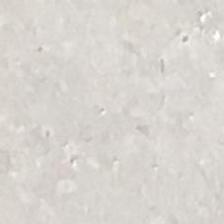Non_Crack: (12, 8, 200, 215)
